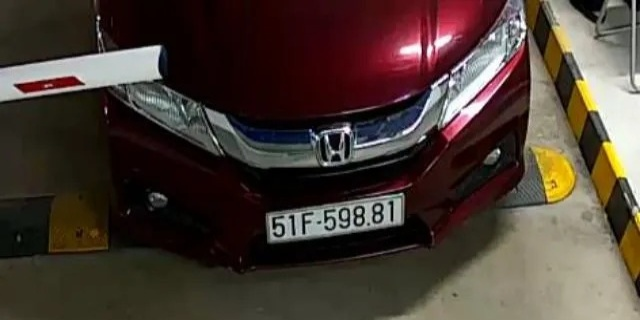bien_so: (266, 199, 403, 237)
